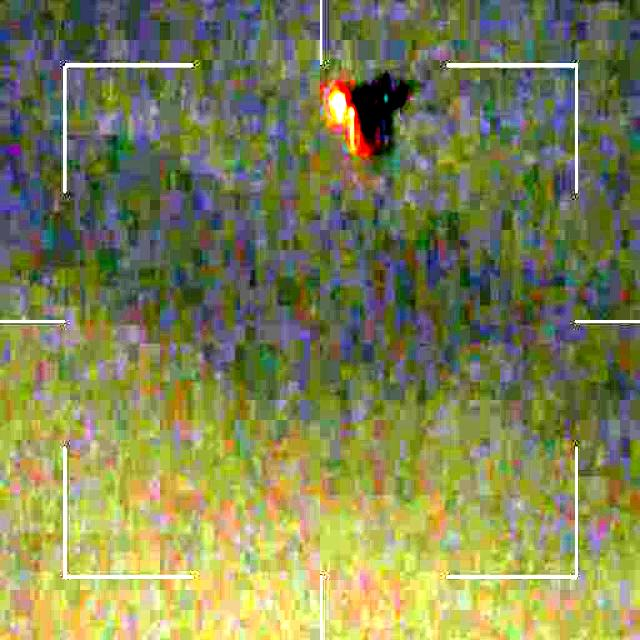bird: (322, 74, 412, 162)
